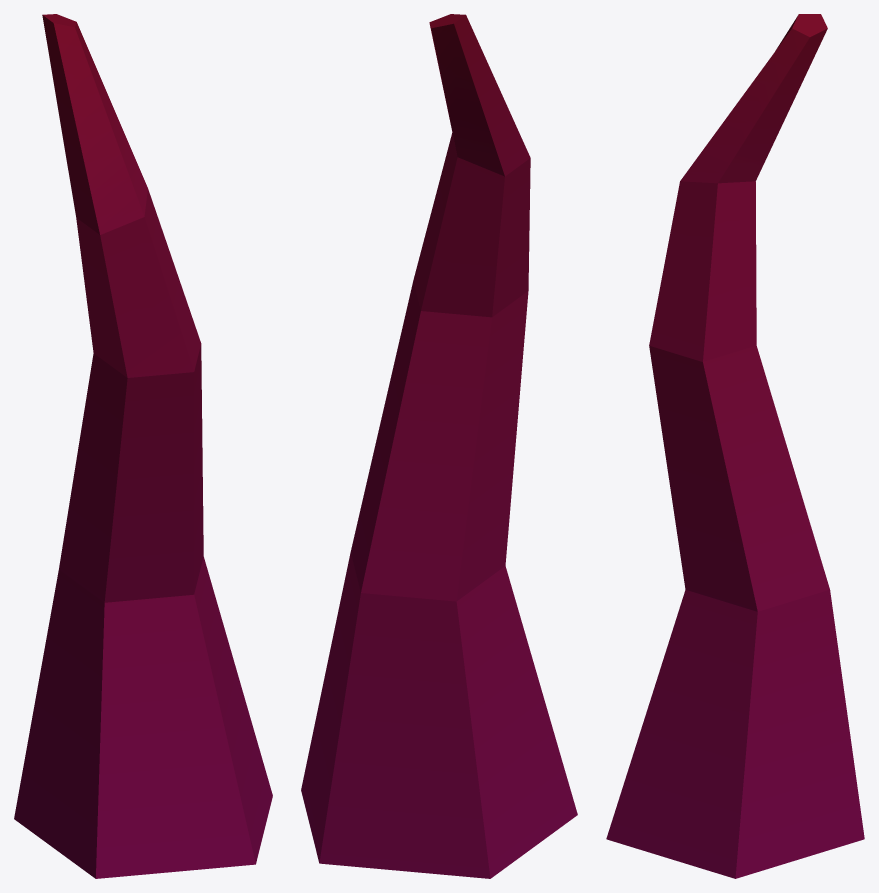
File: SM_Tree_Background_00_fbx.fbx
3 views of the same model, side by side, from view 1: azimuth 30°, elevation 25°; view 2: azimuth 150°, elevation 25°; view 3: azimuth 270°, elevation 25° (orthographic). The views are drawn at different scales.
Visible parts, largest first — view 1: SM_Tree_01; view 2: SM_Tree_01; view 3: SM_Tree_01.
Boxes of the visible parts, x1=… form: SM_Tree_01: x1=14, y1=14, x2=272, y2=878; SM_Tree_01: x1=301, y1=14, x2=577, y2=878; SM_Tree_01: x1=606, y1=14, x2=864, y2=878.
Size of the model in its own units: 75.16 by 79.02 by 262.
